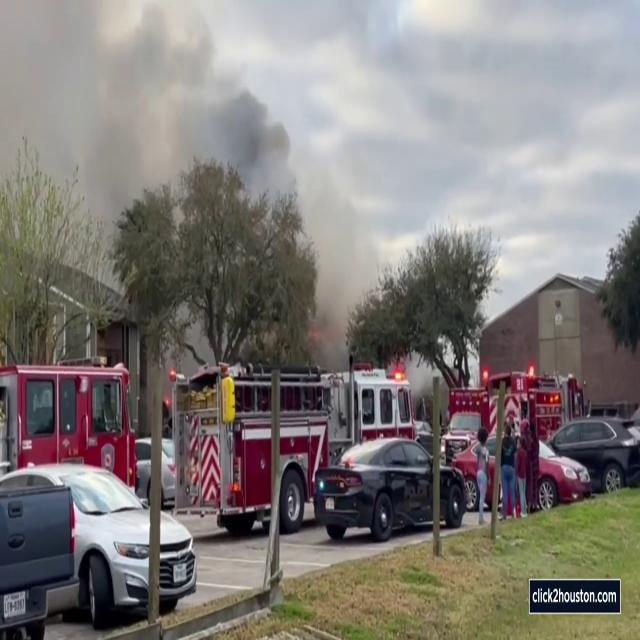Smoke: (76, 1, 337, 363)
